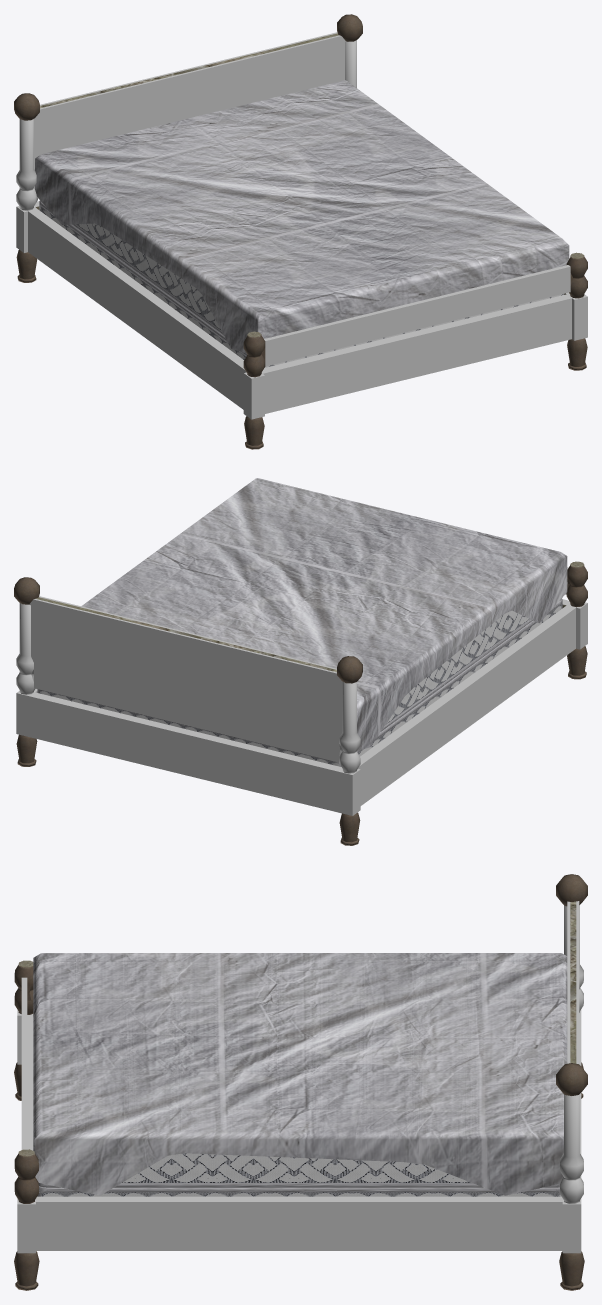
The model's file is BedAFullSheet.fbx.
3 renders of one model, top to bottom at view 1: azimuth 30°, elevation 25°; view 2: azimuth 150°, elevation 25°; view 3: azimuth 270°, elevation 25°, orthographic. The views are drawn at different scales.
Parts seen in each view (by area): view 1: BedAFullSheet; view 2: BedAFullSheet; view 3: BedAFullSheet.
Part boxes in pixels (x1,y1,x2,y2): BedAFullSheet: [14, 14, 587, 449]; BedAFullSheet: [14, 478, 587, 845]; BedAFullSheet: [14, 874, 587, 1290].
Bounding box in the file's own units: 236 × 120 × 283.
